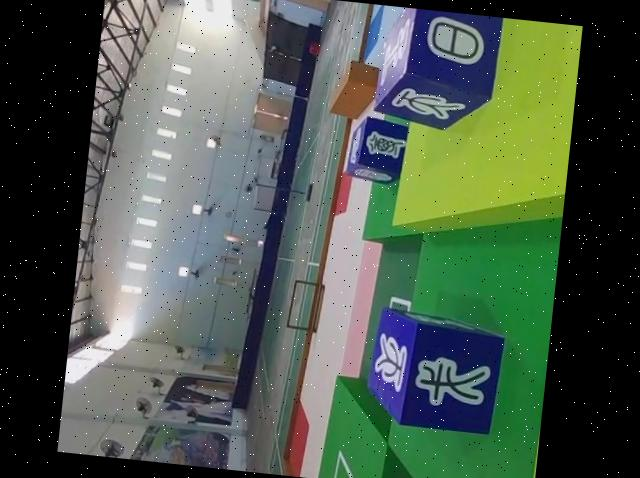R2 Fake Blue: (365, 302, 512, 434), (374, 6, 506, 136), (344, 111, 412, 184)
